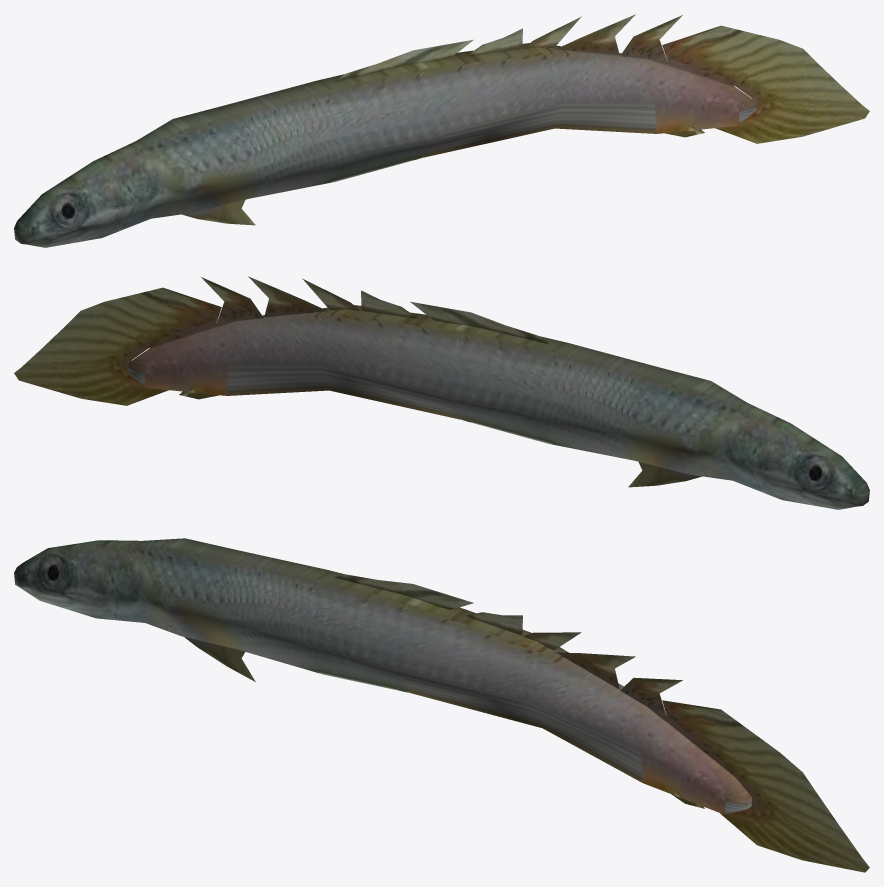
The model's file is pezdracoide.fbx.
3 views of the same model, one above another, from view 1: azimuth 30°, elevation 25°; view 2: azimuth 150°, elevation 25°; view 3: azimuth 330°, elevation 25° (orthographic).
Visible parts, largest first — view 1: pezdracoide; view 2: pezdracoide; view 3: pezdracoide.
Part boxes in pixels (<box>): pezdracoide: <box>14,14,869,247</box>; pezdracoide: <box>14,276,869,509</box>; pezdracoide: <box>14,538,869,872</box>.
Size of the model in its own units: 0.8 by 0.1626 by 0.0799.
Materials: 1 (1 with a texture image).
